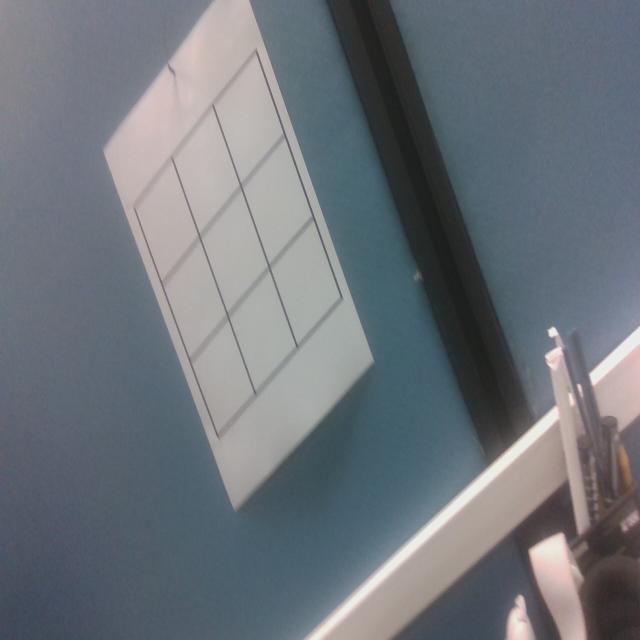null: (240, 137, 315, 266), (202, 187, 273, 314), (270, 219, 339, 349), (228, 264, 296, 393), (216, 56, 284, 174), (179, 115, 242, 231), (167, 243, 228, 359), (191, 321, 249, 431), (136, 164, 194, 273)
table: (97, 45, 377, 445)
